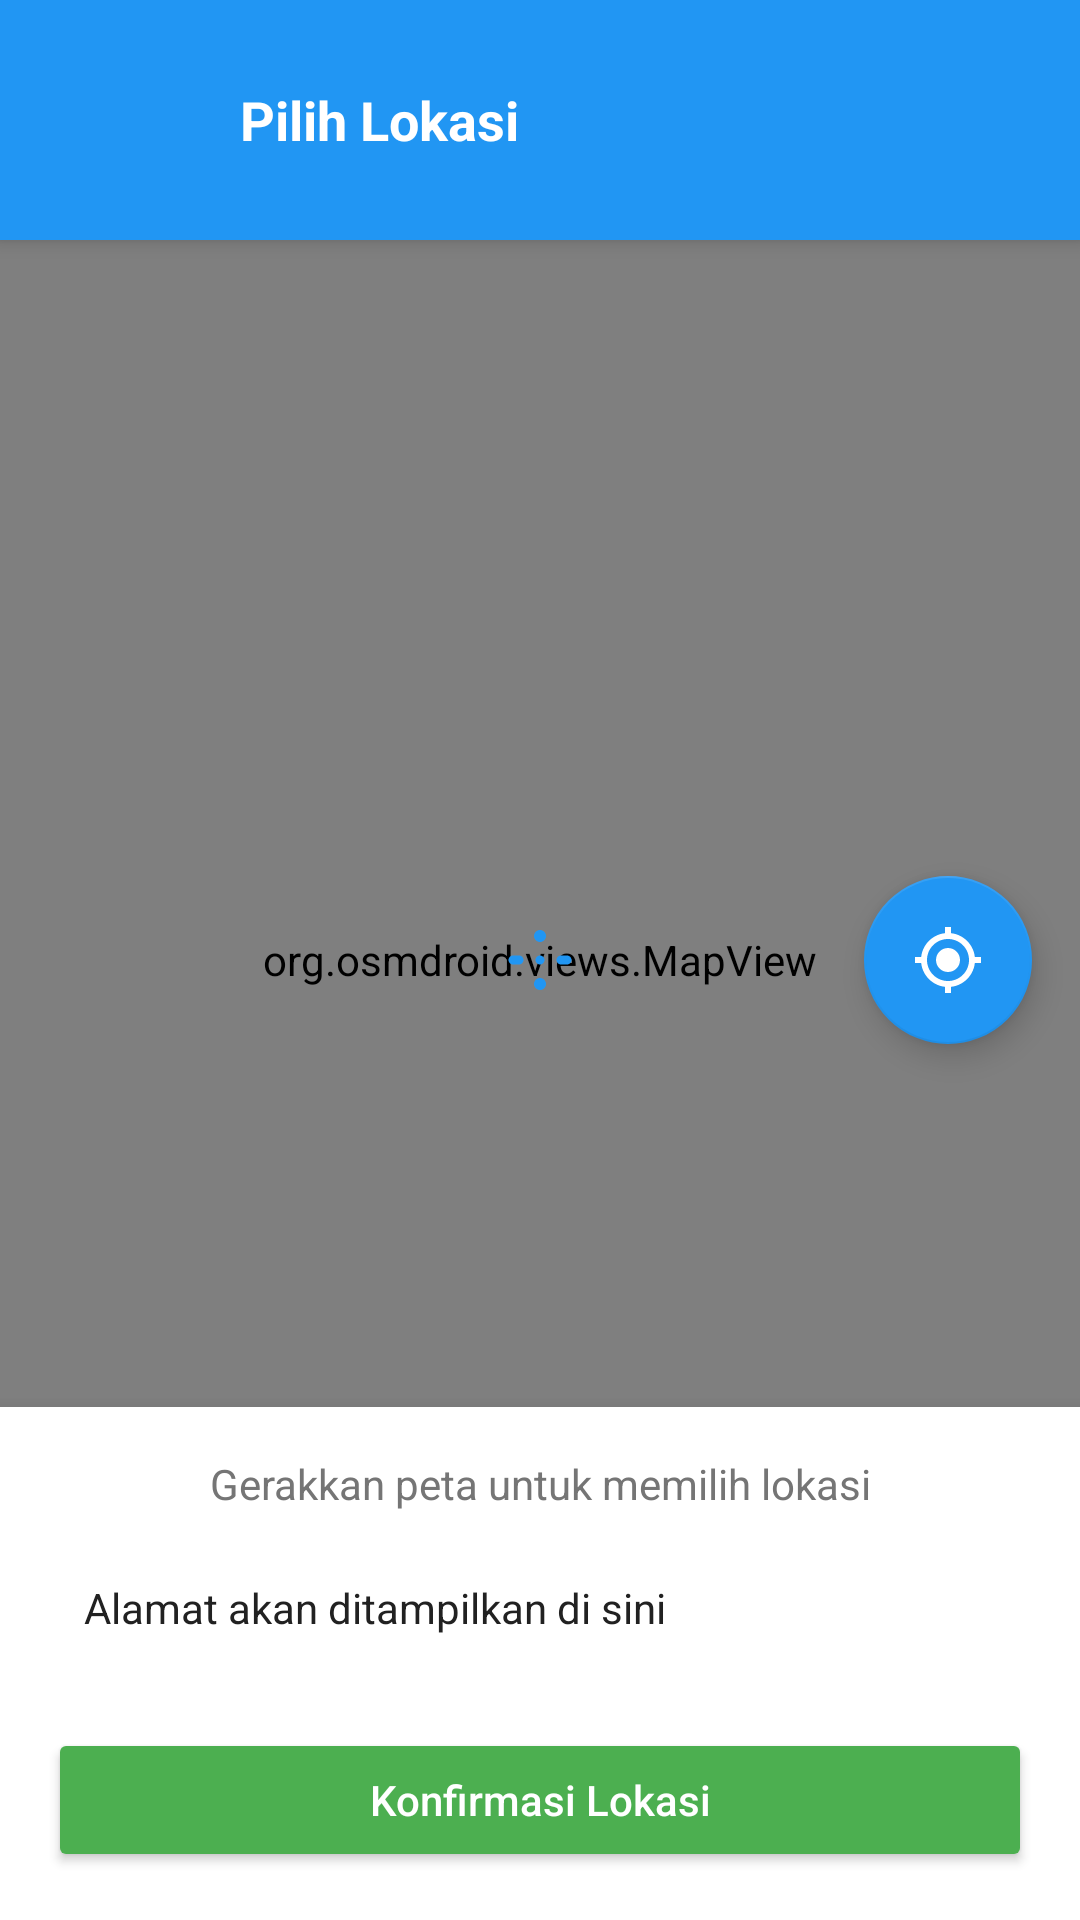

Point at icon controls on the screen. Image size 1080px x 1920px, points as point (x, y).
Lokasi Saya: point (948, 960)
